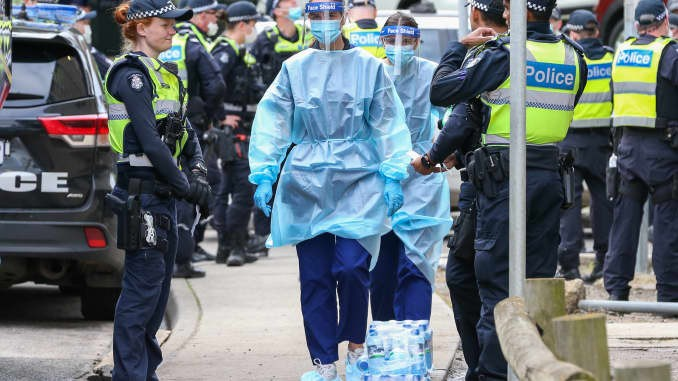Coverall: (248, 44, 413, 261), (372, 57, 459, 286)
Face_Shield: (371, 24, 424, 76), (300, 1, 353, 51)
Gloves: (380, 176, 406, 221), (251, 178, 278, 217)
without_mask: (154, 21, 176, 53)
